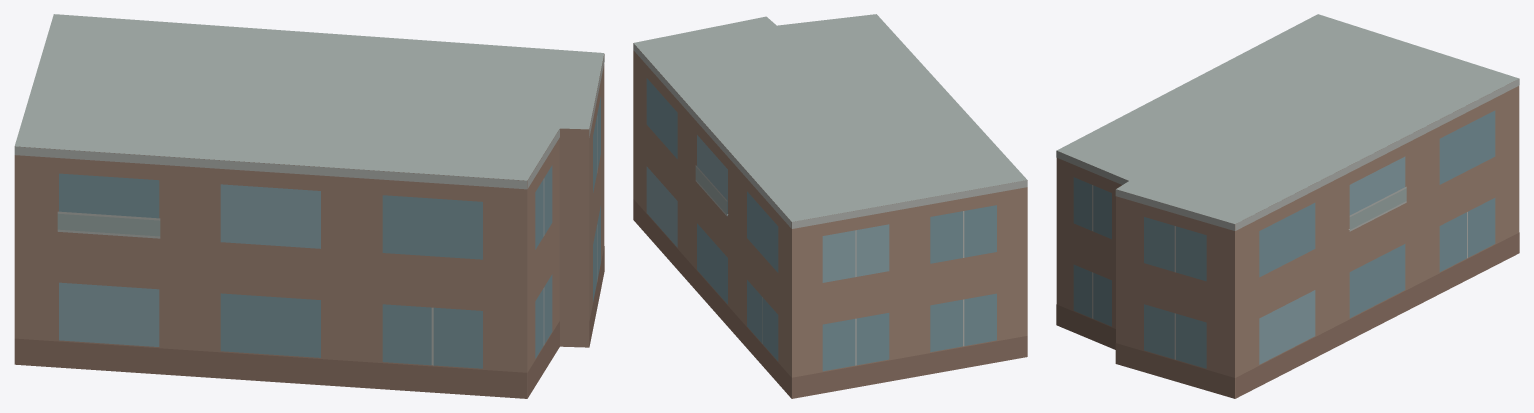
Rendered from survey-upis-32660287.glb.
3 renders of one model, left to right at view 1: azimuth 30°, elevation 25°; view 2: azimuth 150°, elevation 25°; view 3: azimuth 270°, elevation 25°, orthographic. The views are drawn at different scales.
Parts seen in each view (by area): view 1: survey-upis-32660287.tmp; view 2: survey-upis-32660287.tmp; view 3: survey-upis-32660287.tmp.
Part boxes in pixels (x1,y1,x2,y2): survey-upis-32660287.tmp: (14, 14, 604, 398); survey-upis-32660287.tmp: (633, 14, 1027, 398); survey-upis-32660287.tmp: (1056, 14, 1519, 398).
Bounding box in the file's own units: 15.75 × 6.1 × 14.66.
